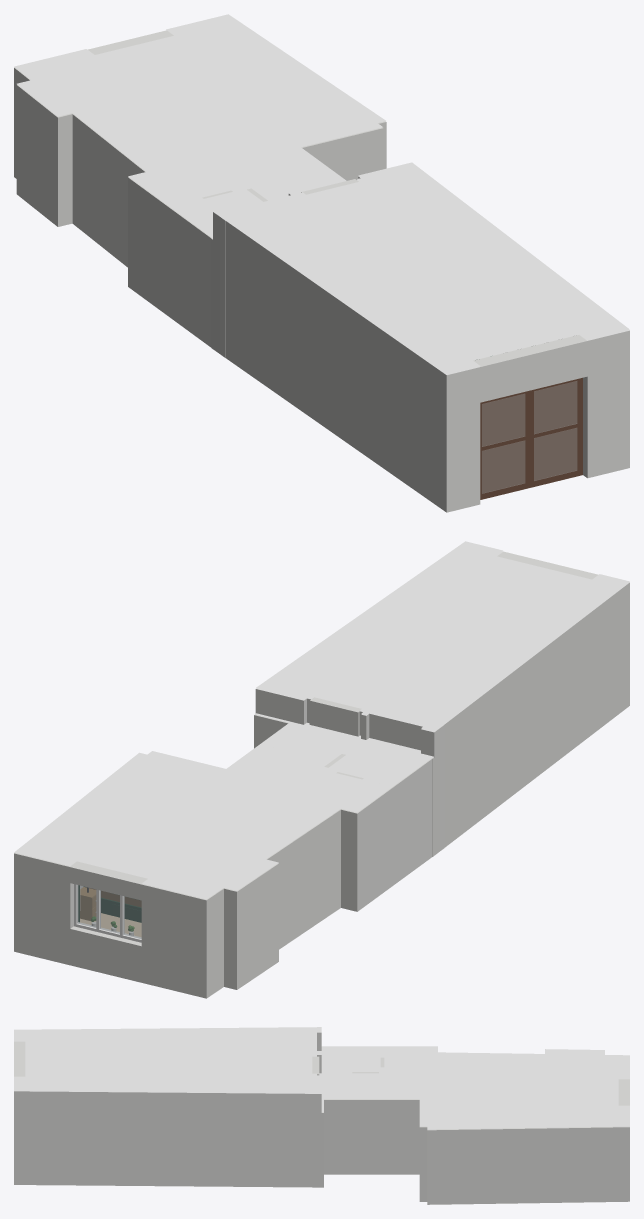
File: byt-v21-web-draco.glb
The picture shows the model from 3 angles, top to bottom: view 1: azimuth 30°, elevation 25°; view 2: azimuth 150°, elevation 25°; view 3: azimuth 270°, elevation 25°; orthographic projection. The views are drawn at different scales.
Visible parts, largest first — view 1: zdi, strop_obyvak, strop_loznice, strop_nad_zdmi, vstupni_dvere, strop_chodba, strop_koupelna; view 2: zdi, strop_obyvak, strop_loznice, strop_nad_zdmi, strop_chodba, strop_koupelna, okno_loznice, postel_GROCI; view 3: zdi, strop_obyvak, strop_loznice, strop_nad_zdmi, strop_chodba, strop_koupelna.
Part boxes in pixels (left/top/right/bottom): zdi: left=14, top=30, right=629, bottom=512; strop_obyvak: left=235, top=171, right=606, bottom=364; strop_loznice: left=37, top=24, right=362, bottom=171; strop_nad_zdmi: left=14, top=14, right=629, bottom=374; vstupni_dvere: left=480, top=377, right=582, bottom=499; strop_chodba: left=214, top=144, right=331, bottom=200; strop_koupelna: left=151, top=164, right=262, bottom=223; zdi: left=14, top=551, right=629, bottom=998; strop_obyvak: left=275, top=550, right=609, bottom=723; strop_loznice: left=35, top=759, right=331, bottom=890; strop_nad_zdmi: left=14, top=541, right=629, bottom=899; strop_chodba: left=232, top=722, right=360, bottom=791; strop_koupelna: left=297, top=738, right=420, bottom=803; okno_loznice: left=74, top=884, right=141, bottom=942; postel_GROCI: left=84, top=886, right=141, bottom=922; zdi: left=14, top=1032, right=629, bottom=1204; strop_obyvak: left=25, top=1032, right=312, bottom=1088; strop_loznice: left=431, top=1054, right=618, bottom=1124; strop_nad_zdmi: left=14, top=1027, right=629, bottom=1129; strop_chodba: left=319, top=1073, right=430, bottom=1094; strop_koupelna: left=317, top=1051, right=426, bottom=1071.
Size of the model in its own units: 5.16 by 2.74 by 16.1.
